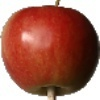apple: (2, 5, 100, 96)
